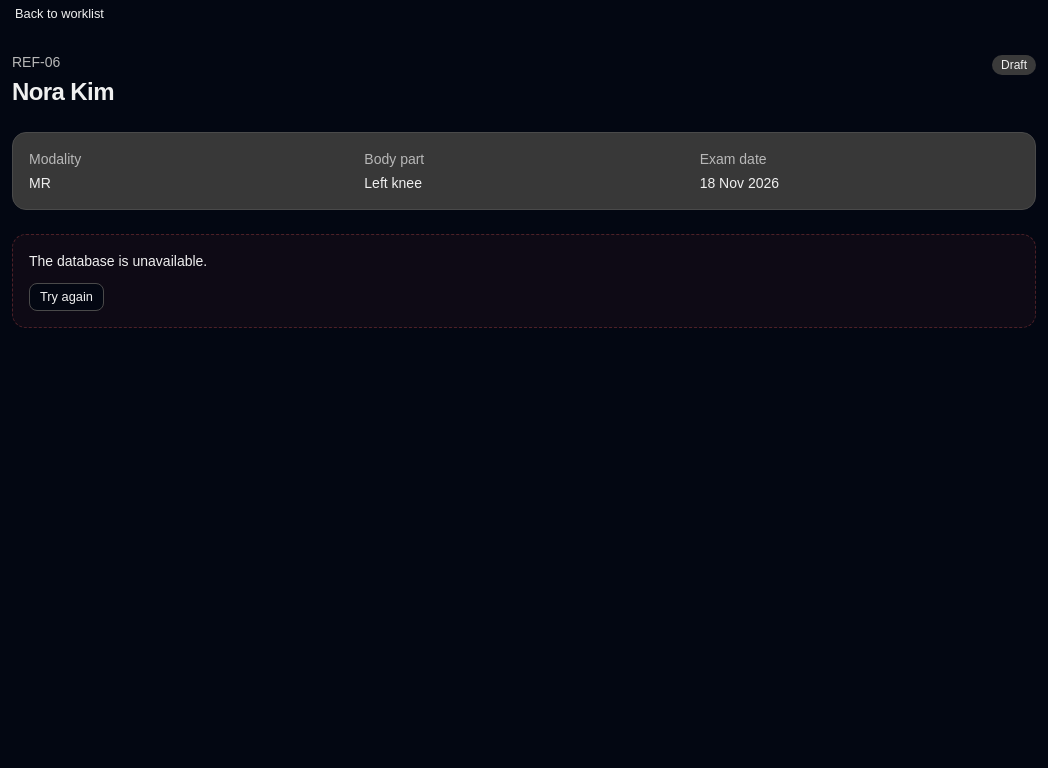
Test: recovers the report workspace after a failed report load
Expected: the text "The database is unavailable." is shown, x1=29 y1=253 x2=207 y2=269
Click the button "Try again" at (66, 297), box x1=29 y1=283 x2=104 y2=311
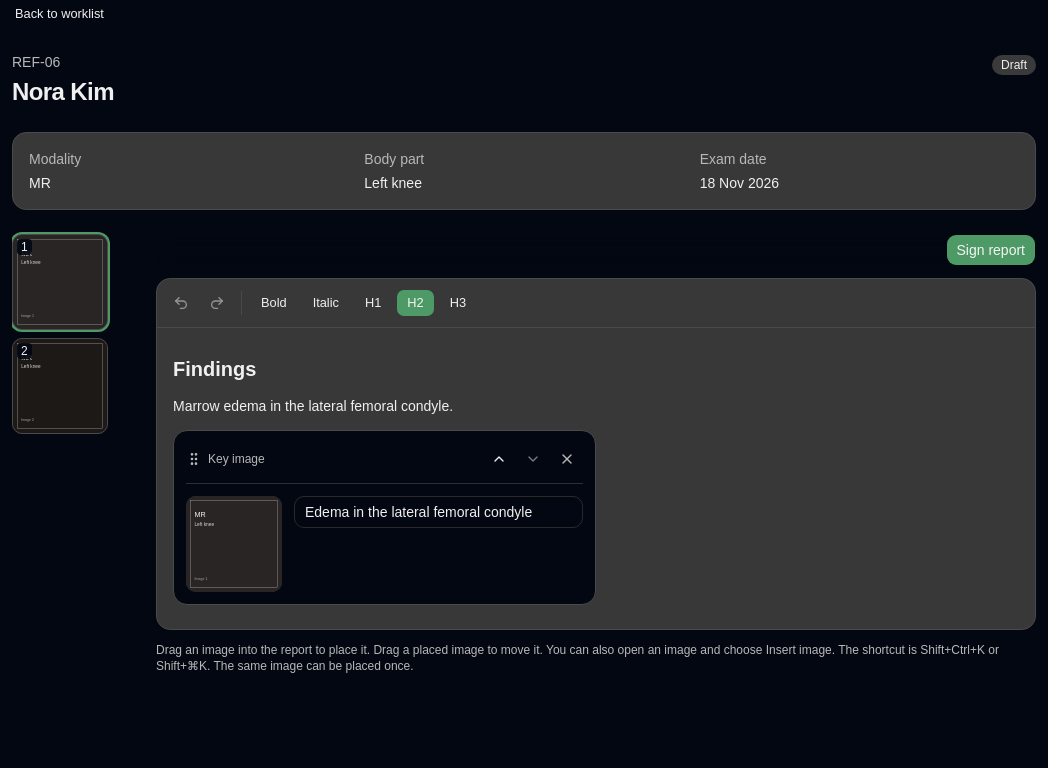
Now the heading "Findings" is shown, box x1=173 y1=358 x2=256 y2=380
